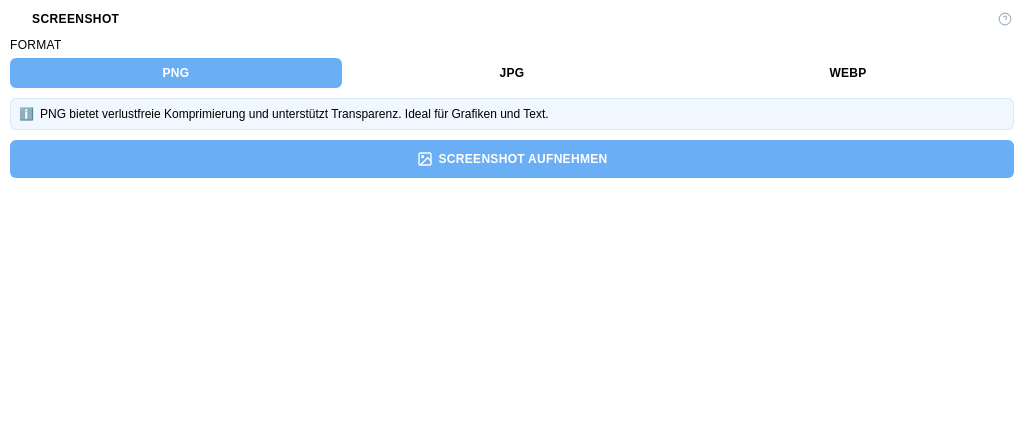
ScreenshotPanel – Format, Vorschau und Vollbild › Dateiname enthält Maße und Endung (jpeg → .jpg), Größe in MB
The image size is (1024, 427).
Click the button with class "format-btn" showing "JPG" at (512, 73), box x1=346 y1=58 x2=678 y2=88
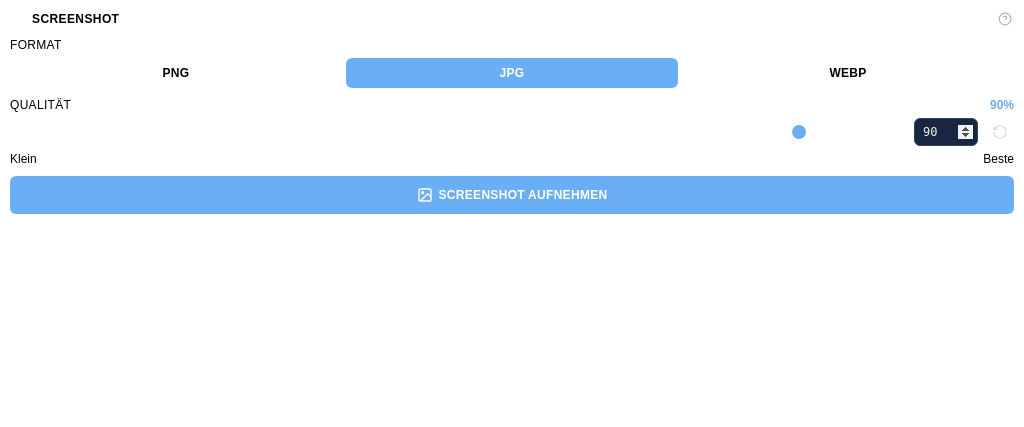
Click the button with class "btn-screenshot" at (512, 195), box x1=10 y1=176 x2=1014 y2=214
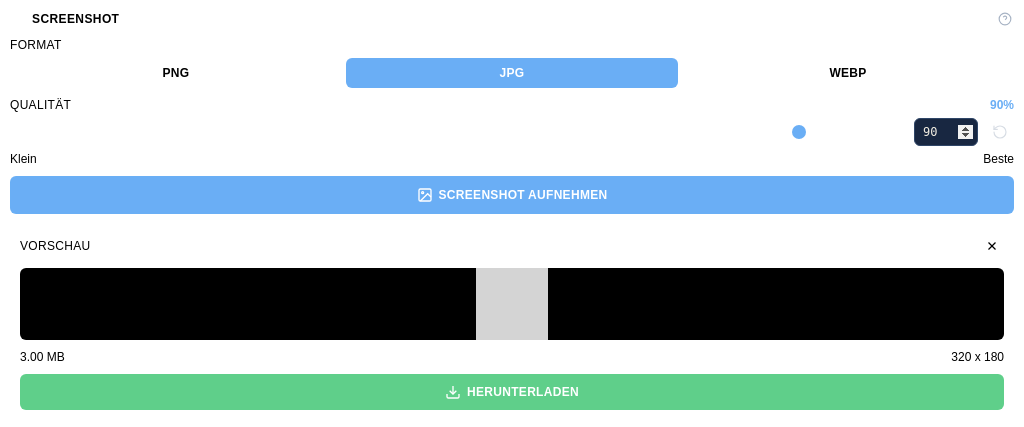
Result: the text with class "file-size" reads "3.00 MB" at x1=20 y1=350 x2=65 y2=364
Result: the text with class "file-dimensions" reads "320 x 180" at x1=951 y1=350 x2=1004 y2=364
